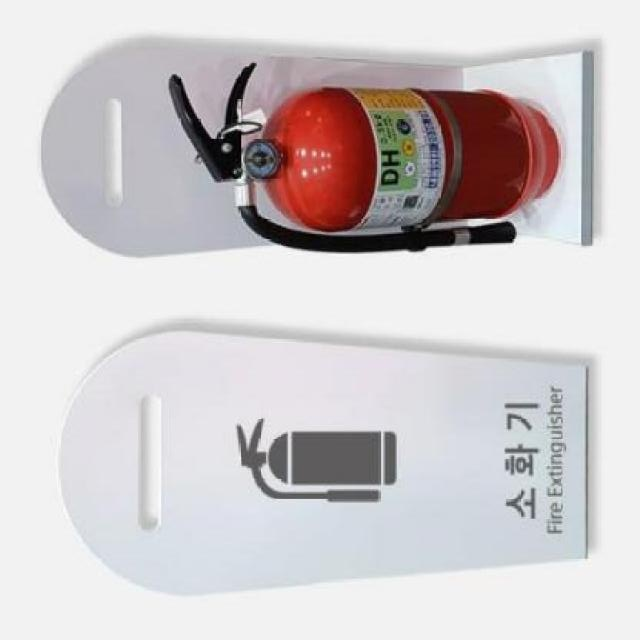fire extinguisher: (166, 60, 559, 254)
